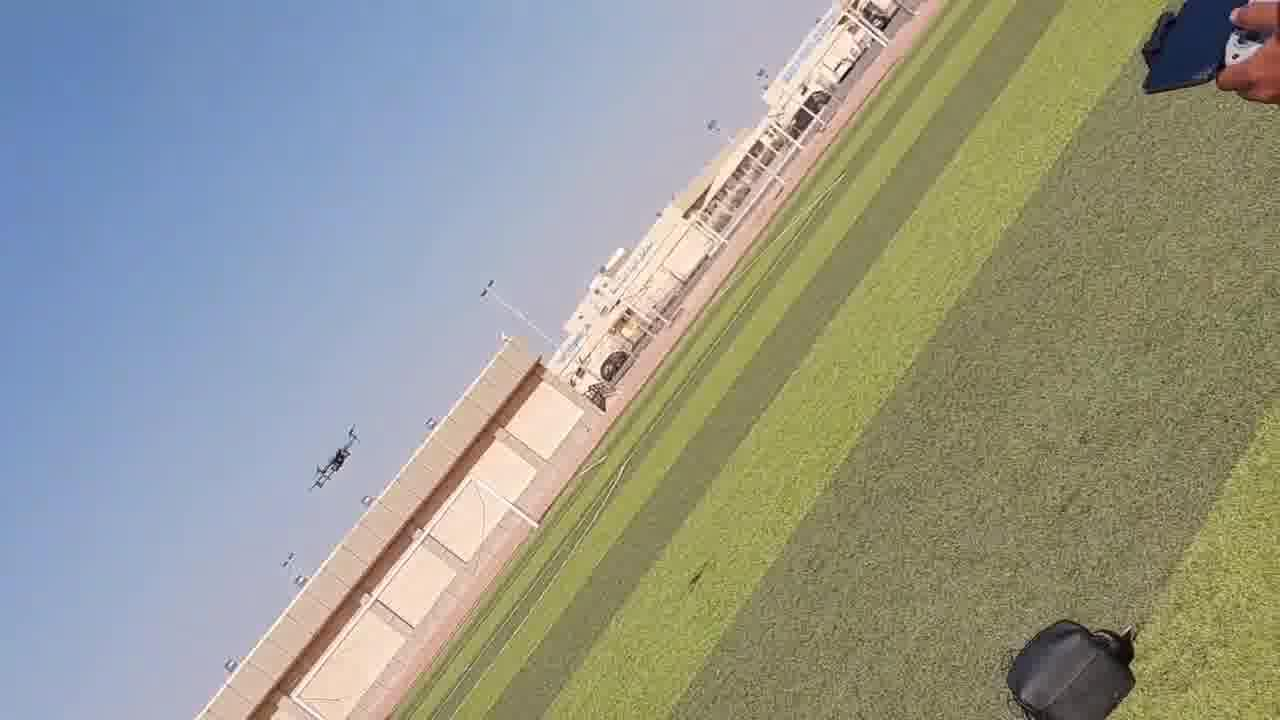drone: (391, 170, 530, 208)
